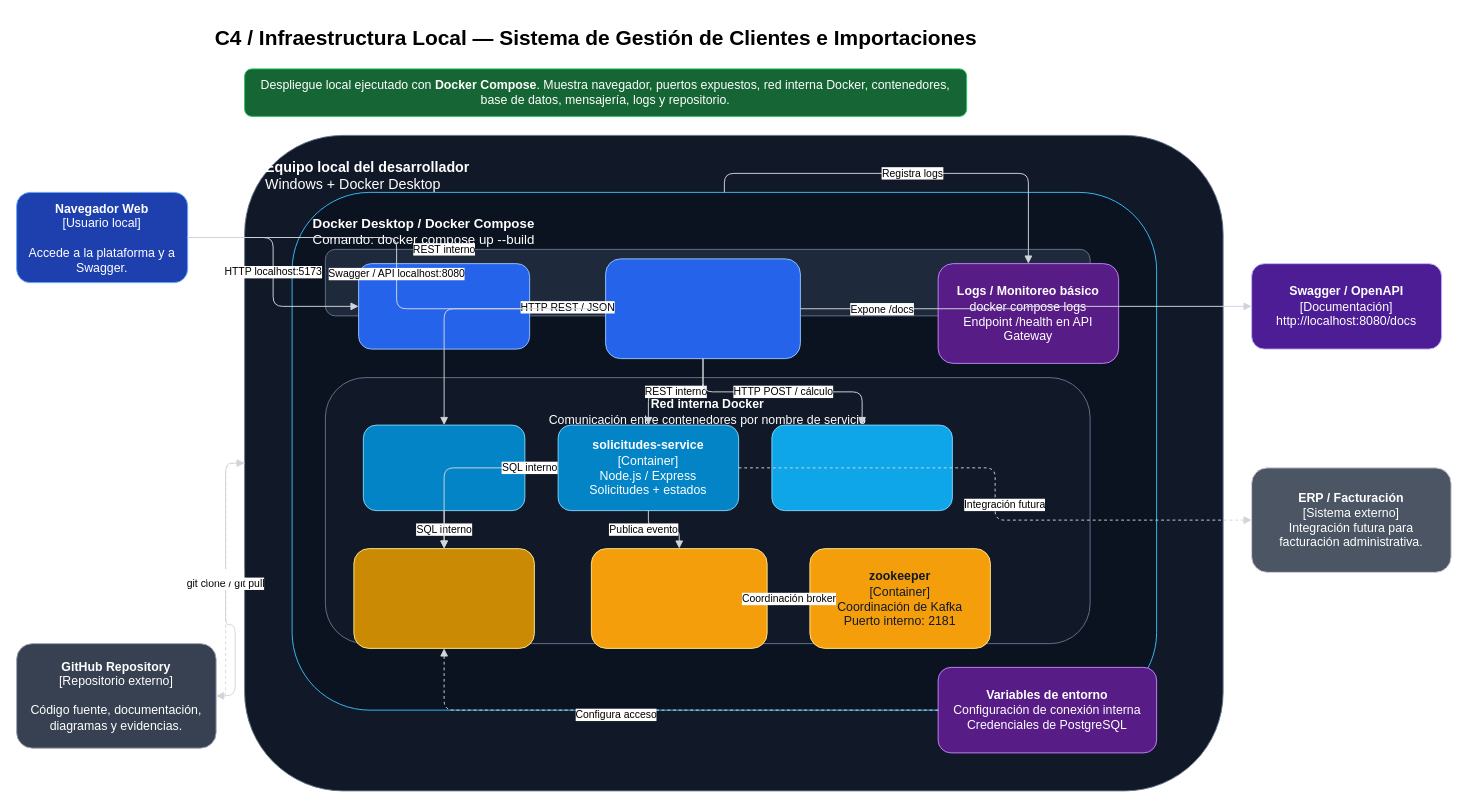
The diagram is 1468 pixels wide and 808 high, and some of its shapes have lost their labels. Each missing label, with the centre of its shape:
api-gateway [Container] Node.js / Express localhost:8080 /docs Swagger: the point at 702,308
clientes-service [Container] Node.js / Express CRUD clientes: the point at 443,467
cotizaciones-function [Serverless Function] Cálculo de cotización: the point at 861,467
frontend [Container] HTML / CSS / JS localhost:5173: the point at 444,306
kafka [Container Broker] Eventos de solicitudes Puerto interno: 9092: the point at 678,598
postgres [Container DB] PostgreSQL Puerto interno: 5432 Volumen: postgres_data: the point at 443,598
